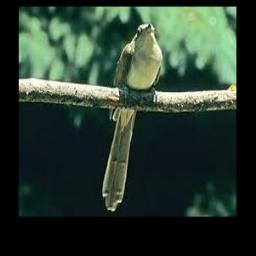Cuckoo: (102, 24, 163, 211)
